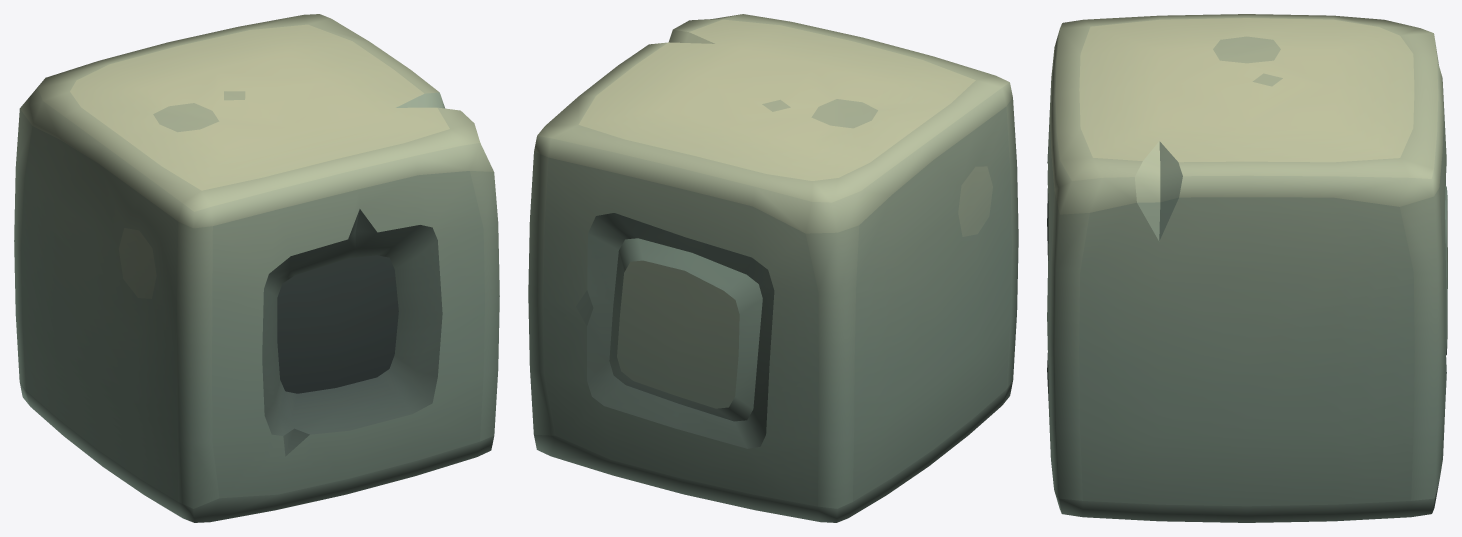
The model's file is block_stone1_9_LOD_group.fbx.
3 renders of one model, left to right at view 1: azimuth 30°, elevation 25°; view 2: azimuth 150°, elevation 25°; view 3: azimuth 270°, elevation 25°, orthographic. The views are drawn at different scales.
Parts seen in each view (by area): view 1: block_stone1_9_LOD0; view 2: block_stone1_9_LOD0; view 3: block_stone1_9_LOD0.
Part boxes in pixels (bbox=[...]): block_stone1_9_LOD0: bbox=[14, 14, 499, 522]; block_stone1_9_LOD0: bbox=[528, 14, 1018, 522]; block_stone1_9_LOD0: bbox=[1047, 14, 1447, 522].
Size of what is drawn, in the model's own units: 109 by 109 by 109.
1 material, 1 textured.
